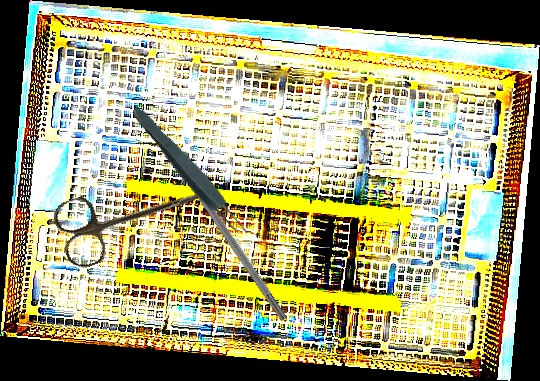Hook Surgical: (173, 157, 290, 322)
Iris Scissors: (50, 154, 225, 273)
Tissue Forceps: (126, 101, 253, 243)
